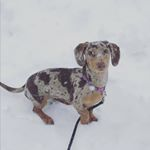puppy: (1, 36, 124, 130)
